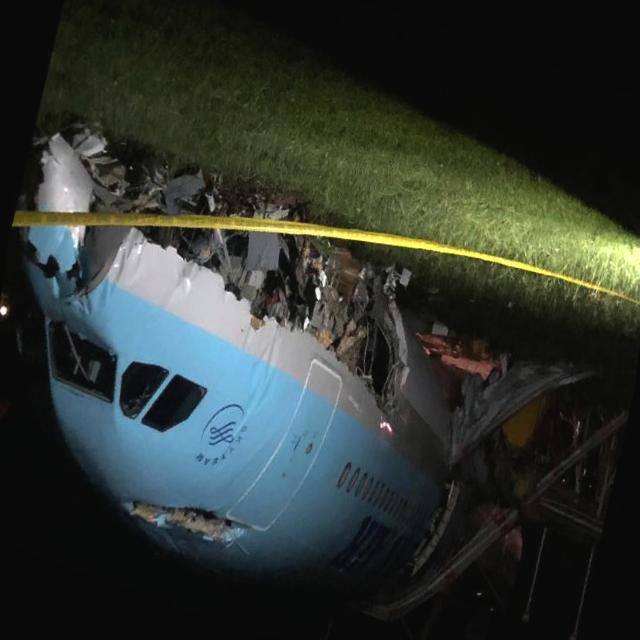crack: (118, 490, 256, 550)
